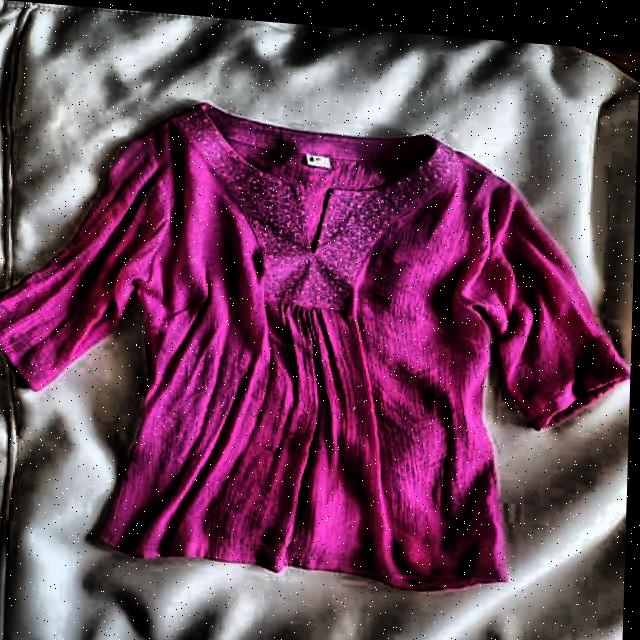clothes: (0, 89, 623, 602)
